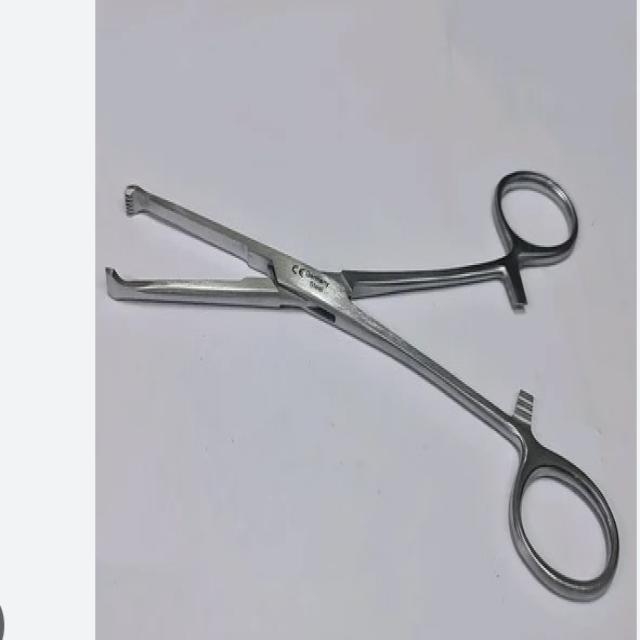Allis Forceps: (103, 166, 624, 610)
